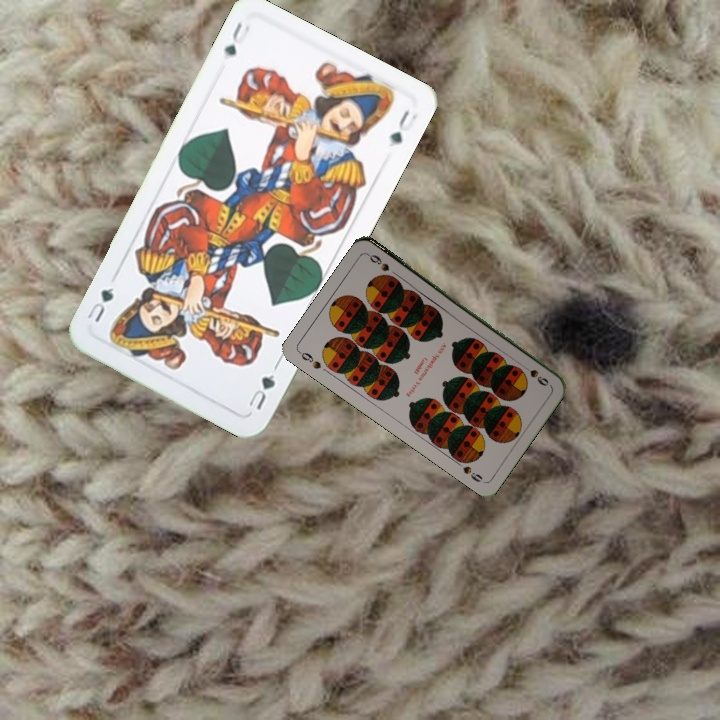GU: (244, 360, 281, 413), (220, 17, 253, 59)
S9: (517, 360, 551, 388), (295, 348, 324, 372)
